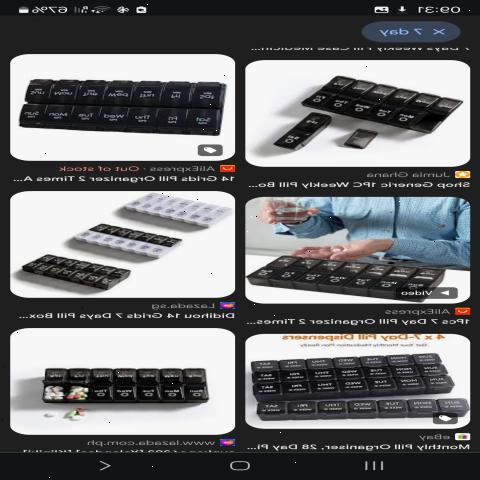PillBox: (234, 334, 460, 402), (12, 72, 227, 140), (18, 357, 222, 416), (246, 248, 464, 300), (298, 73, 460, 132), (17, 250, 154, 294)
